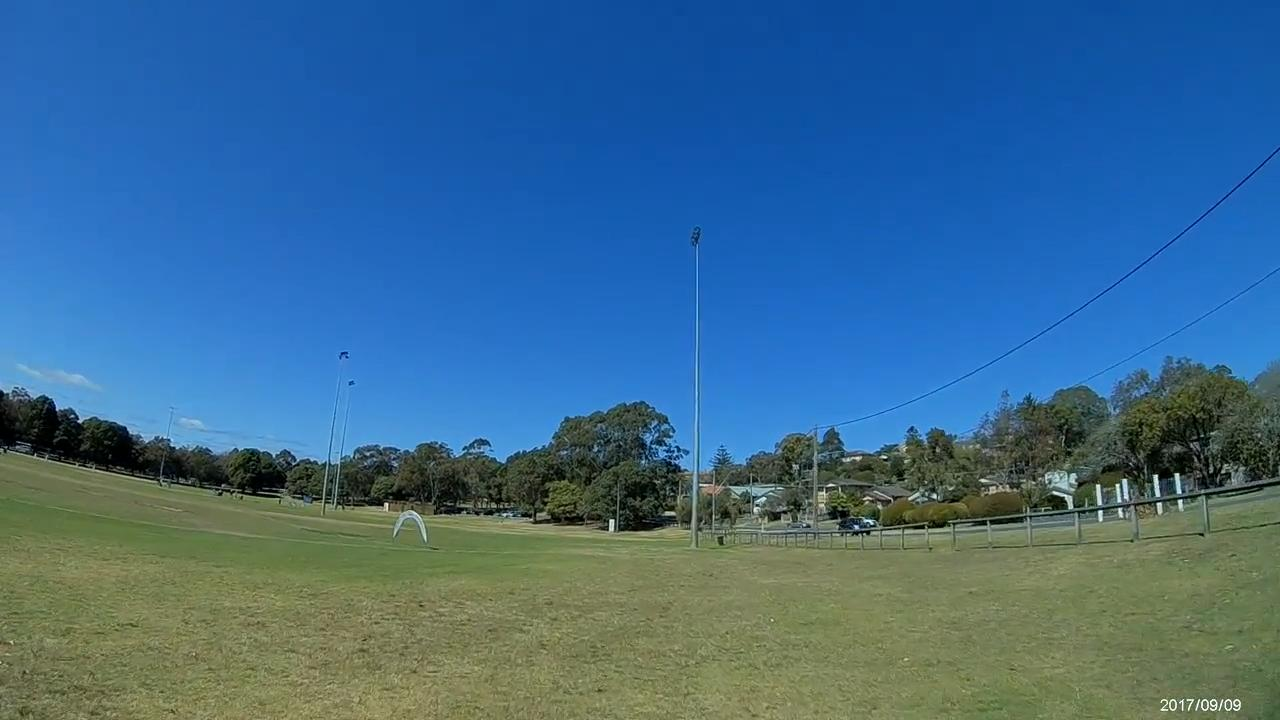gate: (391, 511, 428, 544)
